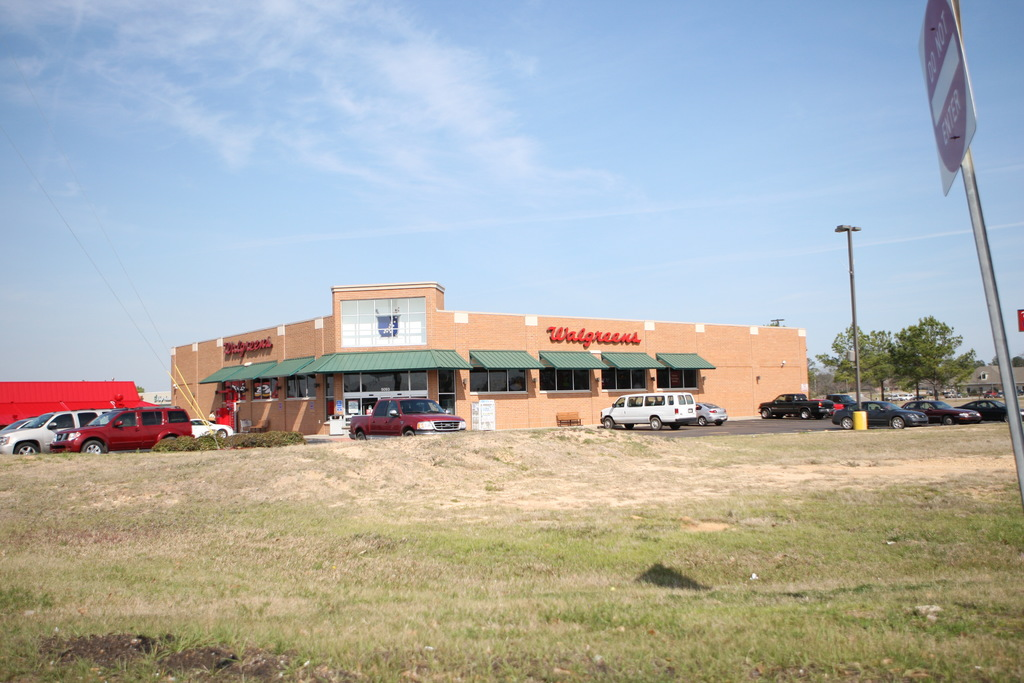Car: (44, 401, 184, 456), (602, 386, 718, 440), (12, 407, 103, 452), (833, 399, 924, 429), (897, 394, 975, 425), (184, 410, 232, 437), (955, 394, 1006, 419), (691, 397, 725, 419)
